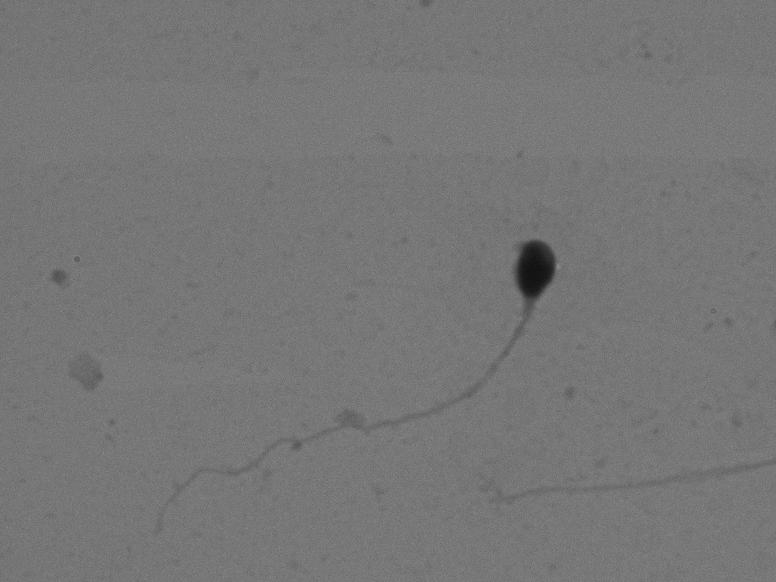Normal: (121, 208, 593, 546)
